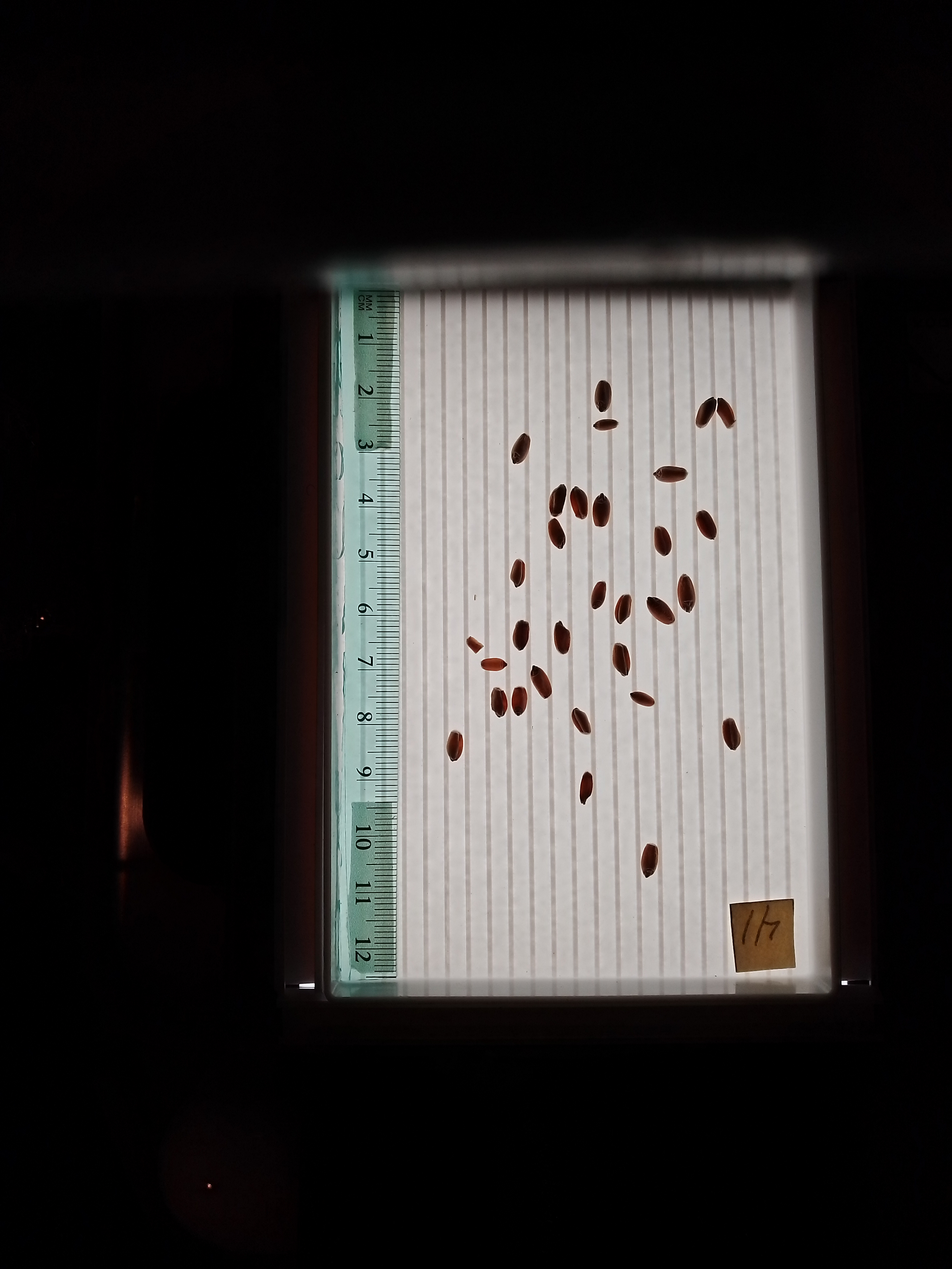seed mask: (647, 597, 675, 624), (678, 576, 696, 612), (696, 398, 718, 427), (531, 667, 551, 698), (592, 495, 611, 527), (511, 434, 530, 465), (612, 644, 631, 675), (722, 719, 741, 750), (696, 511, 716, 540), (654, 466, 687, 483), (641, 844, 658, 877), (570, 487, 588, 518), (554, 623, 571, 654), (717, 398, 735, 427), (654, 526, 672, 555), (446, 731, 463, 761), (595, 381, 611, 412), (550, 485, 566, 516), (548, 520, 565, 549), (513, 621, 530, 649), (572, 709, 591, 734), (579, 773, 594, 803), (615, 595, 631, 623), (510, 559, 526, 587), (512, 687, 528, 715), (491, 689, 507, 717), (591, 582, 606, 609), (594, 416, 618, 432), (632, 691, 654, 707), (482, 657, 505, 672), (468, 636, 482, 653)
